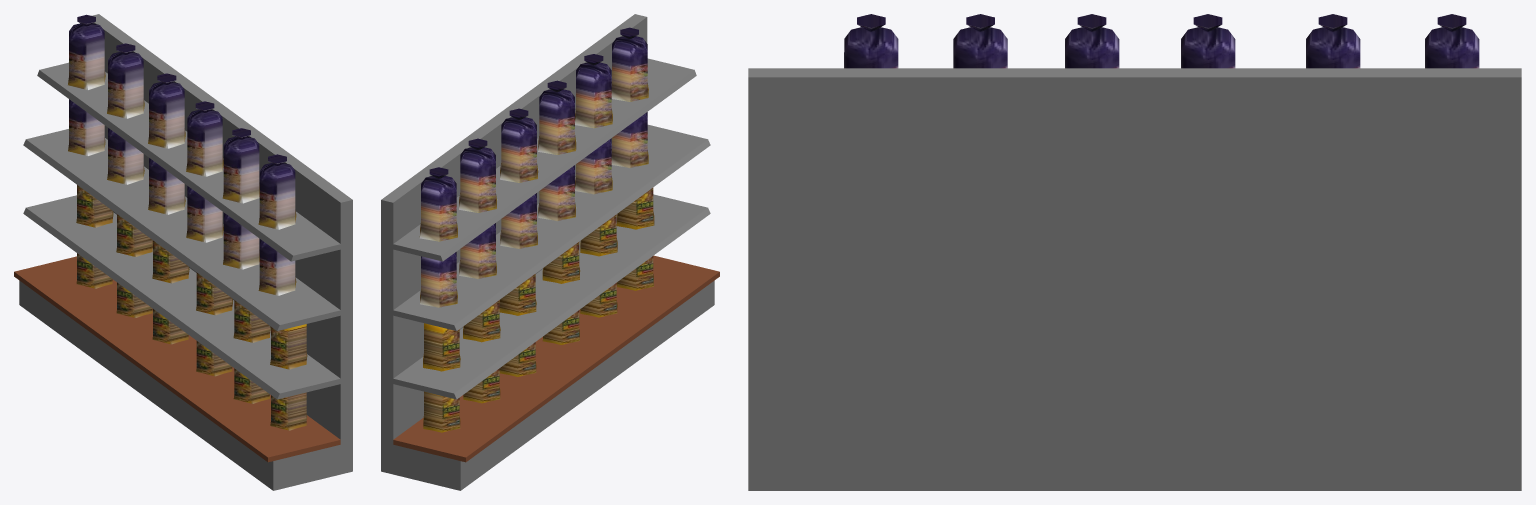
Rendered from breads2.glb.
3 renders of one model, left to right at view 1: azimuth 30°, elevation 25°; view 2: azimuth 150°, elevation 25°; view 3: azimuth 270°, elevation 25°, orthographic. The views are drawn at different scales.
Visible parts, largest first — view 1: breads2, Cylinder.390, Cylinder.388, Cylinder.384, Cylinder.382, Cylinder.386, Cylinder.380, Cylinder.389, Cylinder.387, Cylinder.385, Cylinder.383, Cylinder.381 (+13 smaller); view 2: breads2, Cylinder.386, Cylinder.384, Cylinder.382, Cylinder.380, Cylinder.388, Cylinder.390, Cylinder.030, Cylinder.395, Cylinder.389, Cylinder.387, Cylinder.381 (+13 smaller); view 3: breads2, Cylinder.382, Cylinder.380, Cylinder.384, Cylinder.386, Cylinder.388, Cylinder.390.
Boxes of the visible parts, box(x1,y1,x2,y2) form: breads2: box(14, 14, 352, 490); Cylinder.390: box(258, 154, 296, 229); Cylinder.388: box(222, 128, 259, 203); Cylinder.384: box(148, 73, 185, 148); Cylinder.382: box(107, 43, 144, 118); Cylinder.386: box(186, 101, 223, 176); Cylinder.380: box(68, 14, 105, 89); Cylinder.389: box(258, 239, 296, 295); Cylinder.387: box(223, 212, 259, 269); Cylinder.385: box(186, 186, 223, 242); Cylinder.383: box(148, 158, 185, 214); Cylinder.381: box(107, 128, 144, 184); breads2: box(381, 14, 719, 490); Cylinder.386: box(538, 80, 576, 154); Cylinder.384: box(500, 108, 538, 182); Cylinder.382: box(459, 138, 497, 212); Cylinder.380: box(419, 167, 457, 241); Cylinder.388: box(575, 54, 612, 128); Cylinder.390: box(611, 27, 648, 101); Cylinder.030: box(420, 252, 457, 307); Cylinder.395: box(423, 323, 460, 371); Cylinder.389: box(611, 112, 648, 168); Cylinder.387: box(575, 138, 612, 194); Cylinder.381: box(459, 223, 496, 278); breads2: box(748, 68, 1521, 490); Cylinder.382: box(1306, 14, 1360, 68); Cylinder.380: box(1425, 14, 1479, 68); Cylinder.384: box(1181, 14, 1235, 68); Cylinder.386: box(1065, 14, 1119, 68); Cylinder.388: box(953, 14, 1007, 68); Cylinder.390: box(844, 14, 898, 68).
Size of the model in its own units: 2.55 by 8.37 by 13.21.
3 materials, 1 textured.
